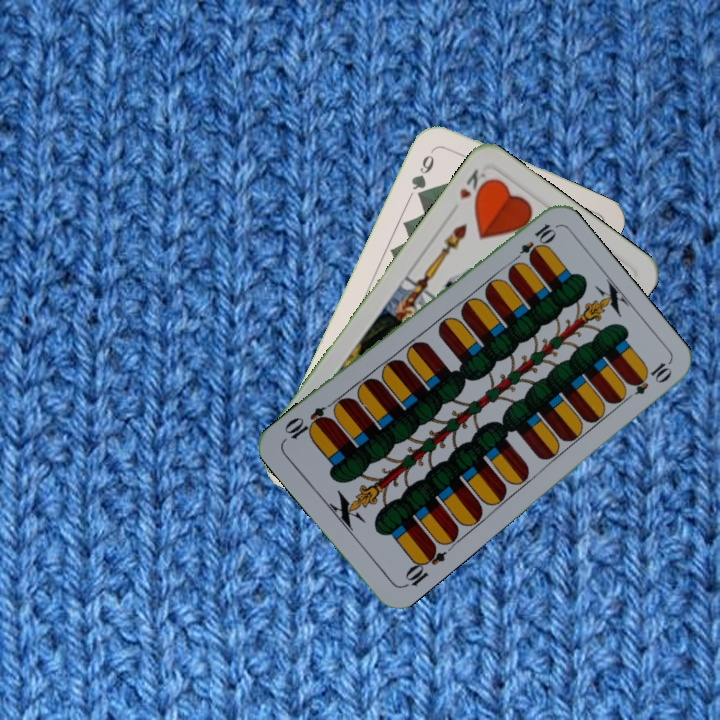E10: (399, 540, 449, 590), (507, 219, 558, 267)
G9: (407, 150, 437, 203)
HK: (455, 165, 494, 204)
